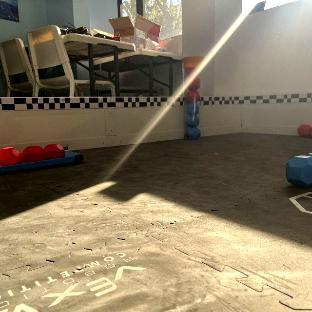V5_BLUE: (286, 153, 312, 186), (186, 102, 200, 138)
V5_RED: (0, 144, 65, 167), (183, 56, 201, 138), (298, 125, 312, 136)
